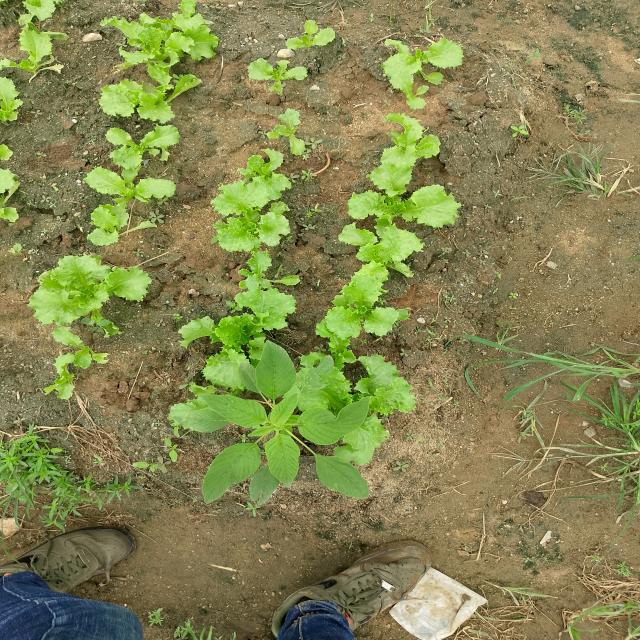Lettuce: (36, 251, 147, 325), (75, 159, 182, 234), (98, 5, 224, 68), (224, 176, 304, 260), (378, 32, 467, 106), (102, 56, 191, 124), (320, 259, 398, 336), (334, 191, 422, 254), (224, 252, 303, 320), (346, 352, 420, 420), (378, 112, 445, 186), (9, 16, 72, 83), (240, 111, 318, 164), (184, 303, 268, 352), (391, 182, 469, 232), (109, 120, 183, 167), (247, 54, 304, 97), (287, 17, 340, 53)
